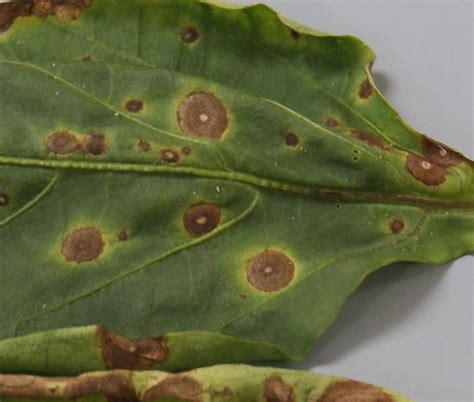black-spot: (41, 186, 318, 318)
